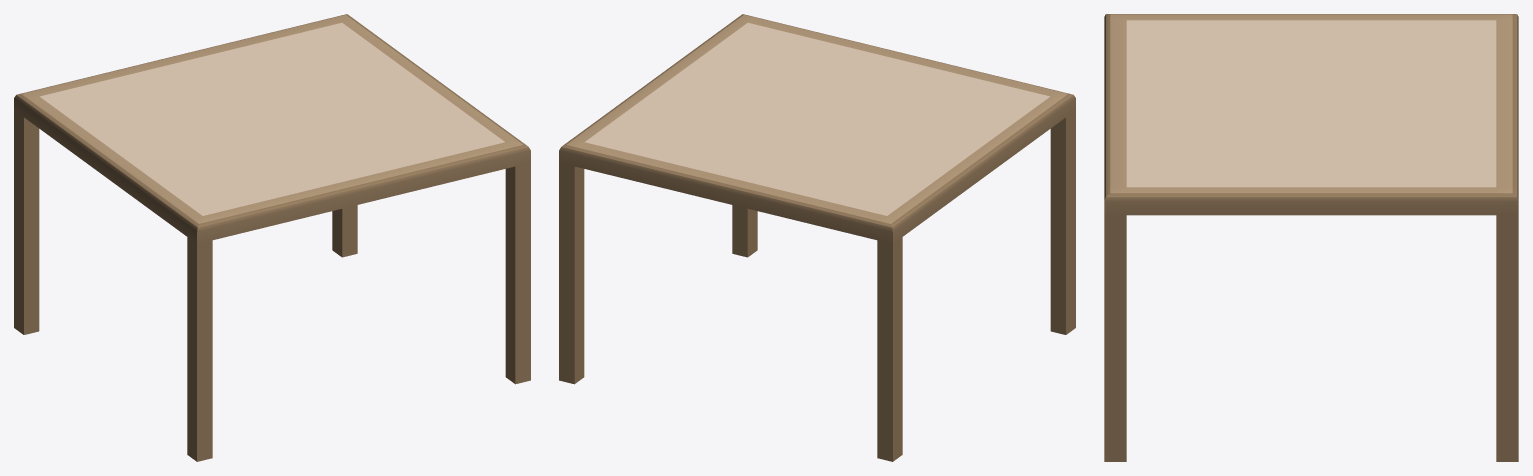
File: mesa.fbx
3 renders of one model, left to right at view 1: azimuth 30°, elevation 25°; view 2: azimuth 150°, elevation 25°; view 3: azimuth 270°, elevation 25°, orthographic. The views are drawn at different scales.
Parts seen in each view (by area): view 1: pasted__Mesa1; view 2: pasted__Mesa1; view 3: pasted__Mesa1.
Boxes of the visible parts, <box> form: pasted__Mesa1: <box>14,14,530,461</box>; pasted__Mesa1: <box>559,14,1075,461</box>; pasted__Mesa1: <box>1104,14,1518,461</box>.
Size of the model in its own units: 2.14 by 1.44 by 2.03.
